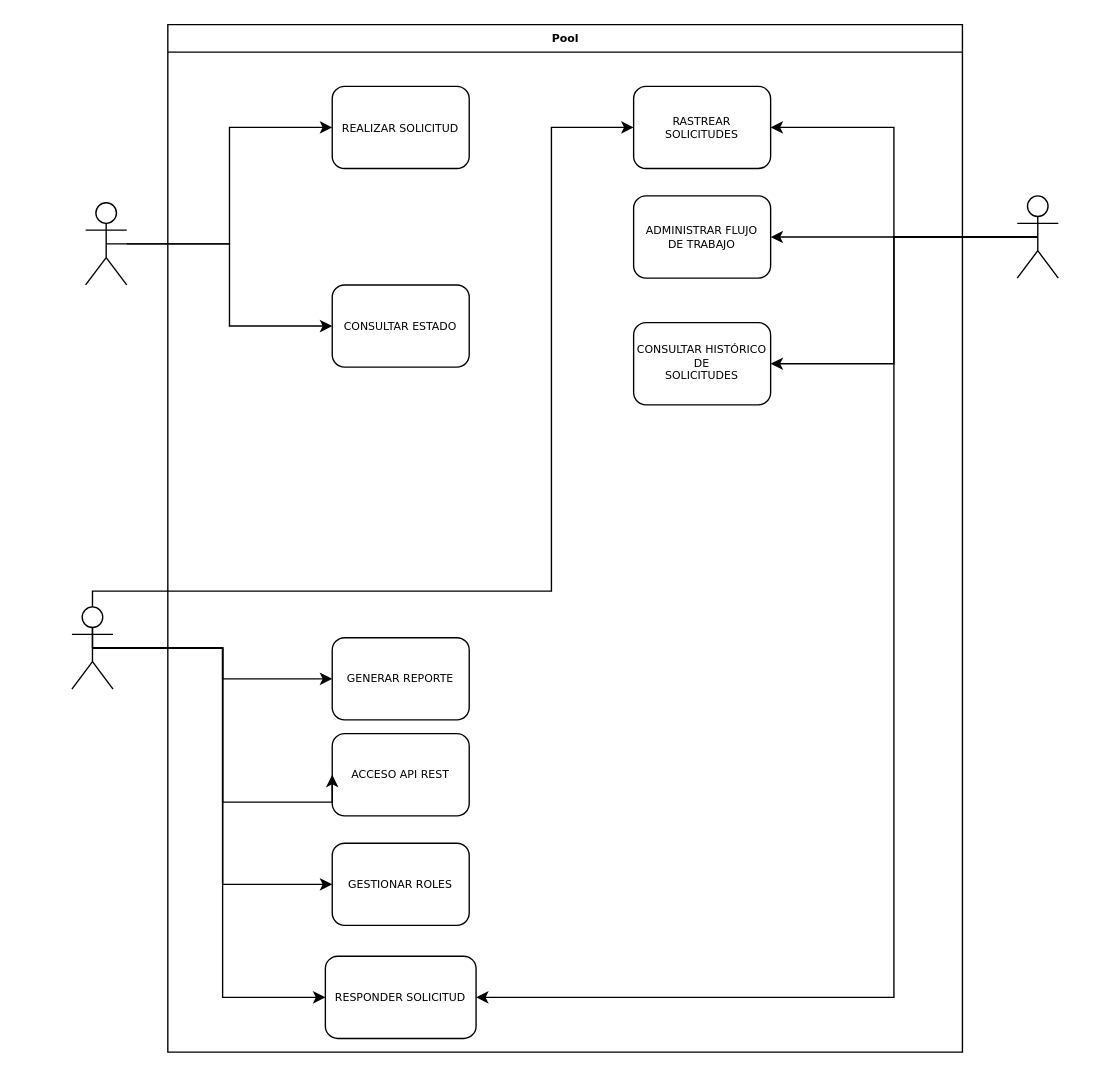
Some shapes in this 1106 by 1075 pixel diagram are drawn without their labels. Each missing label, with the box of its shape:
ADMINISTRADOR: (71, 606, 113, 689)
CIUDADANO: (84, 201, 127, 285)
GOBIERNO: (1016, 195, 1058, 278)
